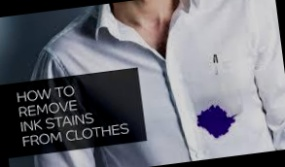ink: (197, 105, 234, 138)
